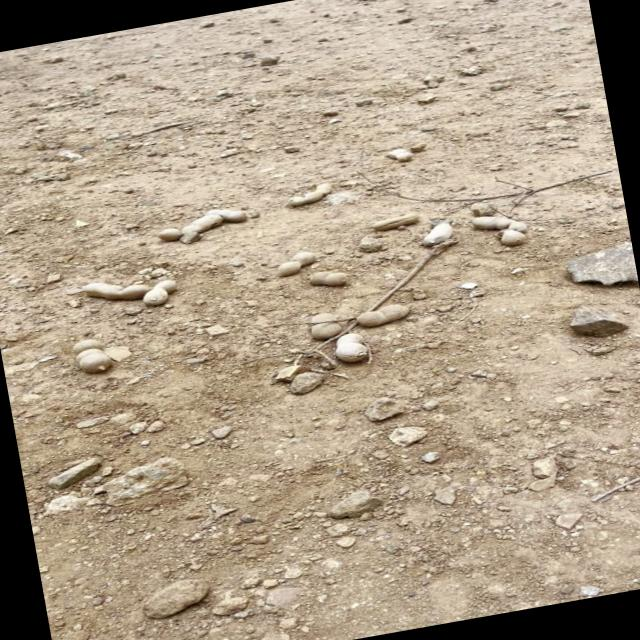tamarind: (79, 272, 150, 305), (349, 294, 422, 326), (152, 213, 220, 241), (471, 206, 528, 238), (70, 335, 114, 375), (284, 180, 335, 209), (134, 276, 185, 304), (330, 328, 372, 362), (272, 248, 317, 278), (304, 264, 352, 289), (367, 210, 422, 230), (204, 200, 248, 225), (304, 308, 340, 336), (381, 144, 414, 164)
